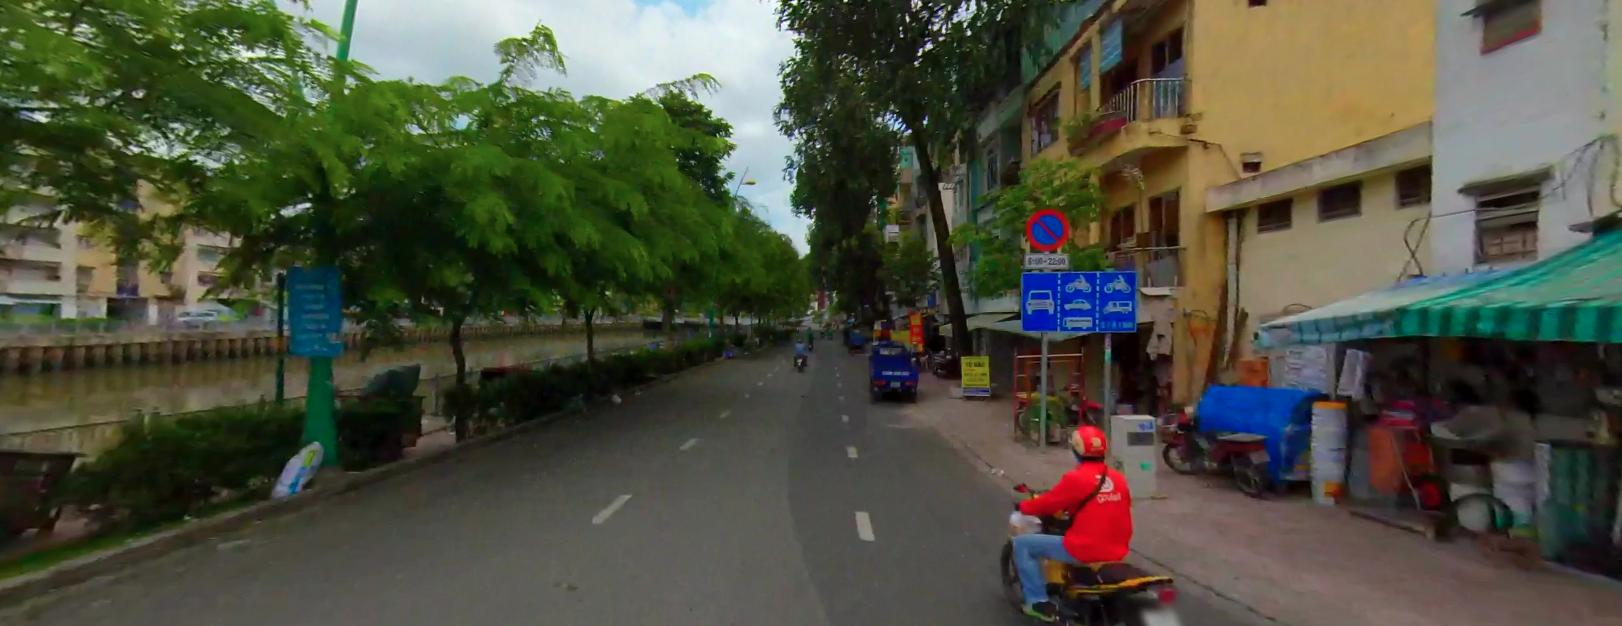Cam dung va do: (1026, 208, 1069, 250)
